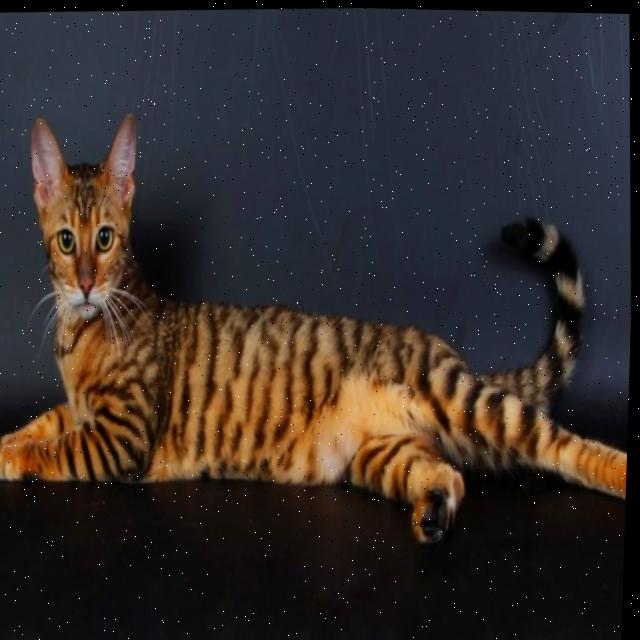Toyger: (0, 84, 638, 566)
